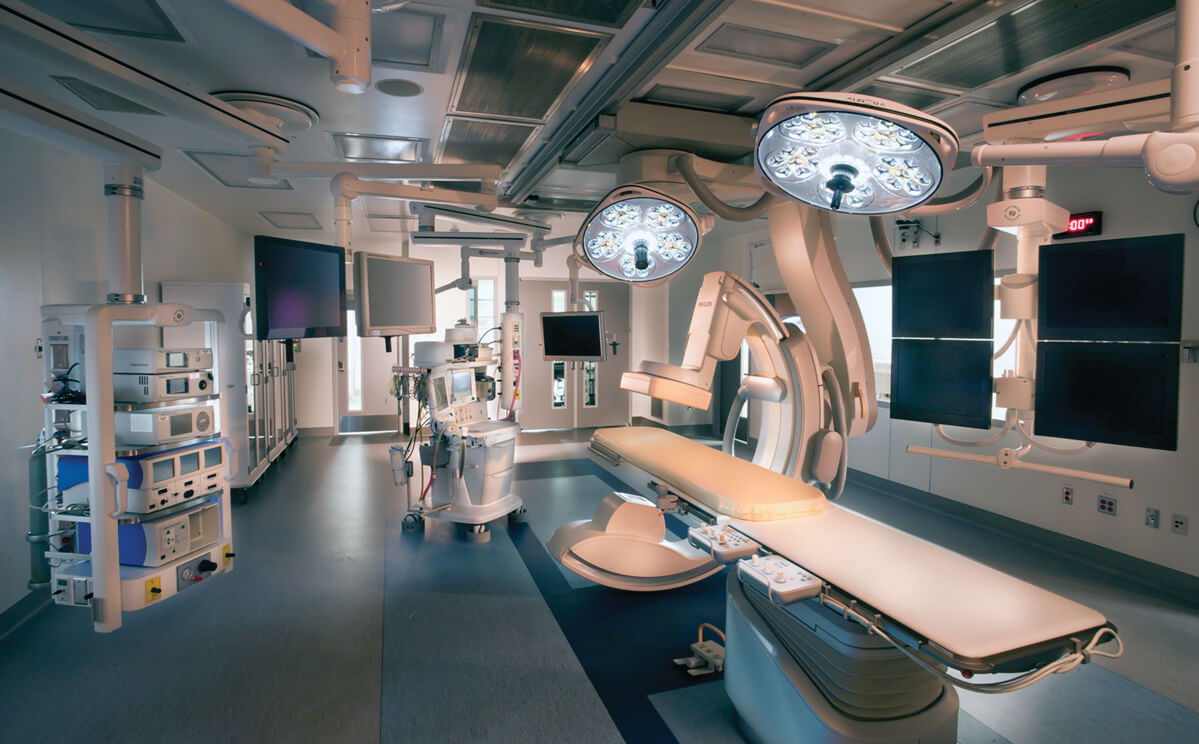bedside_monitor: (1038, 239, 1189, 339), (1035, 349, 1186, 448), (254, 233, 345, 342), (891, 247, 996, 339), (891, 339, 996, 429), (353, 249, 438, 338), (540, 311, 608, 362), (421, 366, 479, 413)
cabinet: (227, 273, 310, 491)
door_handle: (337, 361, 348, 375), (580, 361, 588, 375), (570, 360, 578, 374)
exam_table: (584, 423, 1124, 744)
handle: (270, 367, 281, 381), (252, 373, 263, 387)
medical_drawer: (457, 433, 524, 514)
surgical_light: (751, 89, 960, 217), (571, 185, 703, 283)
